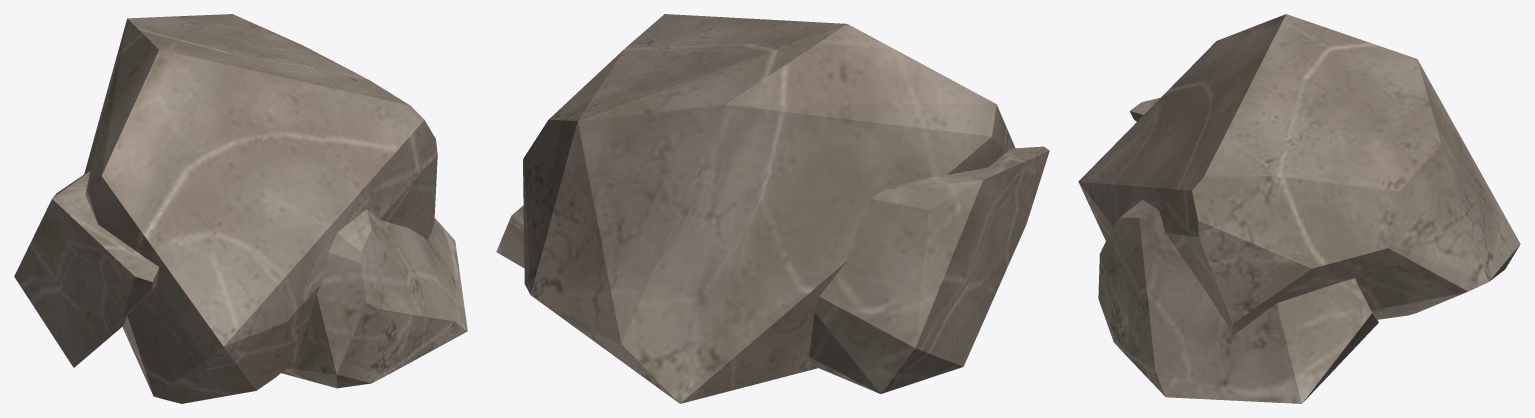
Rendered from res_stone_low.glb.
3 views of the same model, side by side, from view 1: azimuth 30°, elevation 25°; view 2: azimuth 150°, elevation 25°; view 3: azimuth 270°, elevation 25° (orthographic). The views are drawn at different scales.
Parts seen in each view (by area): view 1: res_stone_low; view 2: res_stone_low; view 3: res_stone_low.
Boxes of the visible parts, box(x1,y1,x2,y2) form: res_stone_low: box(14, 14, 467, 403); res_stone_low: box(496, 14, 1049, 403); res_stone_low: box(1078, 14, 1520, 403).
Bounding box in the file's own units: 0.86 × 0.5793 × 0.8473.
1 material, 1 textured.
